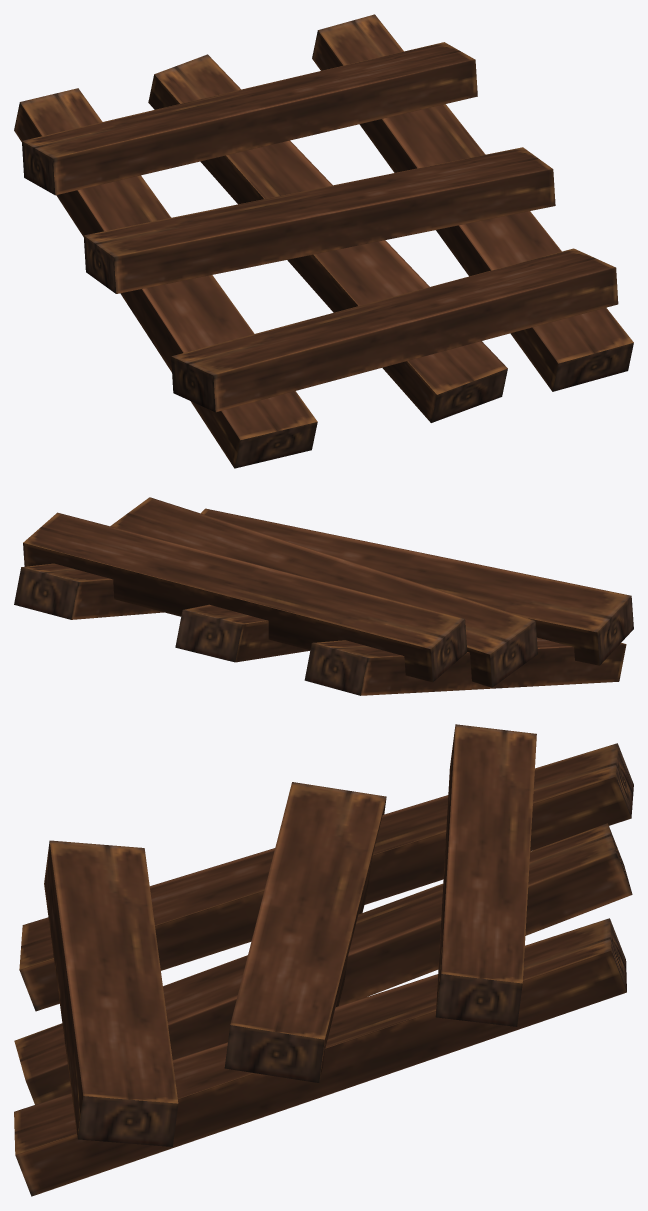
The model's file is bl_tizi.FBX.
The picture shows the model from 3 angles, top to bottom: view 1: azimuth 30°, elevation 25°; view 2: azimuth 150°, elevation 25°; view 3: azimuth 270°, elevation 25°; orthographic projection. The views are drawn at different scales.
Visible parts, largest first — view 1: bl_tizi; view 2: bl_tizi; view 3: bl_tizi.
Part boxes in pixels (<box>): bl_tizi: <box>14,14,633,468</box>; bl_tizi: <box>14,497,633,695</box>; bl_tizi: <box>14,724,633,1196</box>.
Bounding box in the file's own units: 592 × 258 × 603.
